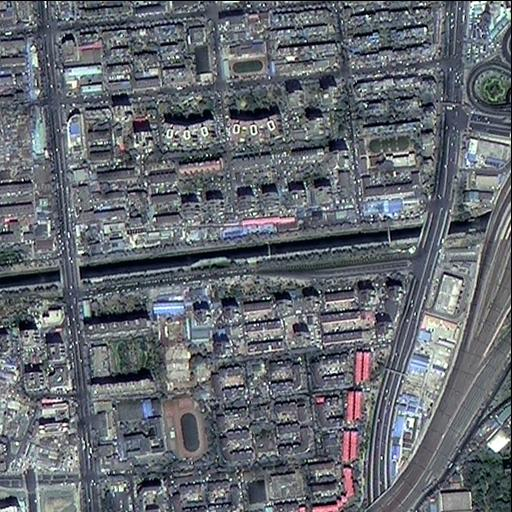school: (115, 394, 212, 460), (220, 37, 270, 84)
